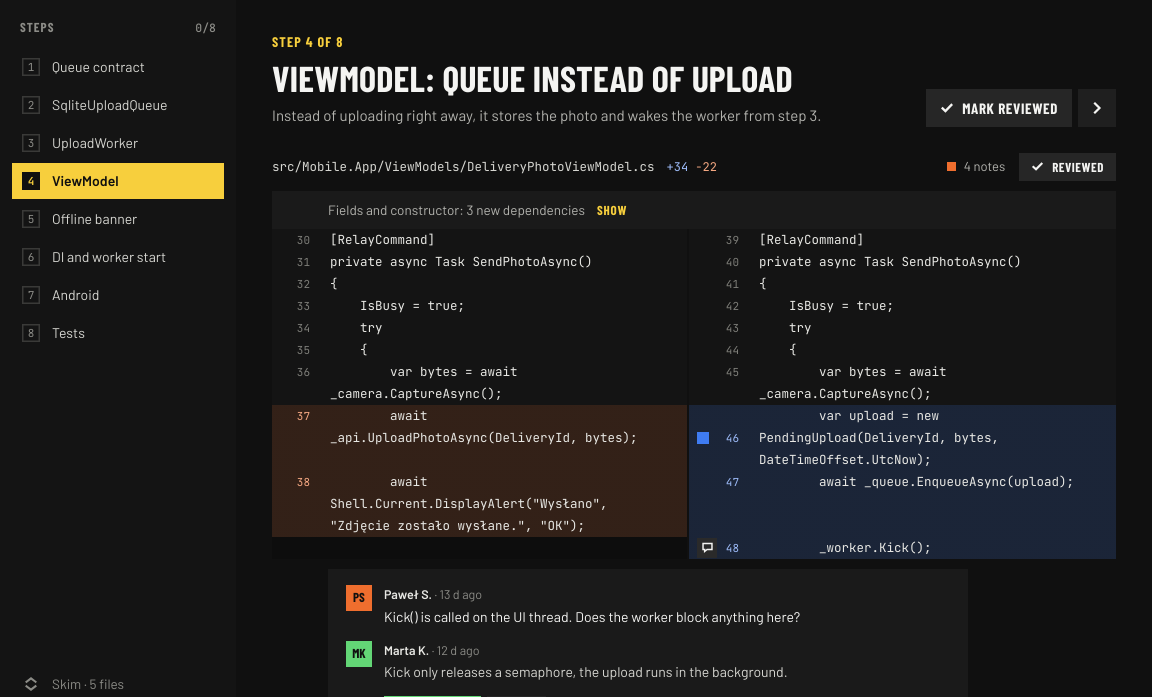
Test: S-03 layout A › F-07.4 a mechanical region is a fold row until Show
Expected: the text "Fields and constructor: 3 new dependencies" is shown, [328,200,585,220]
Expected: the text "private readonly IUploadQueue _queue;" is not shown
Click the button "Show" at (612, 210), box [597,202,627,218]
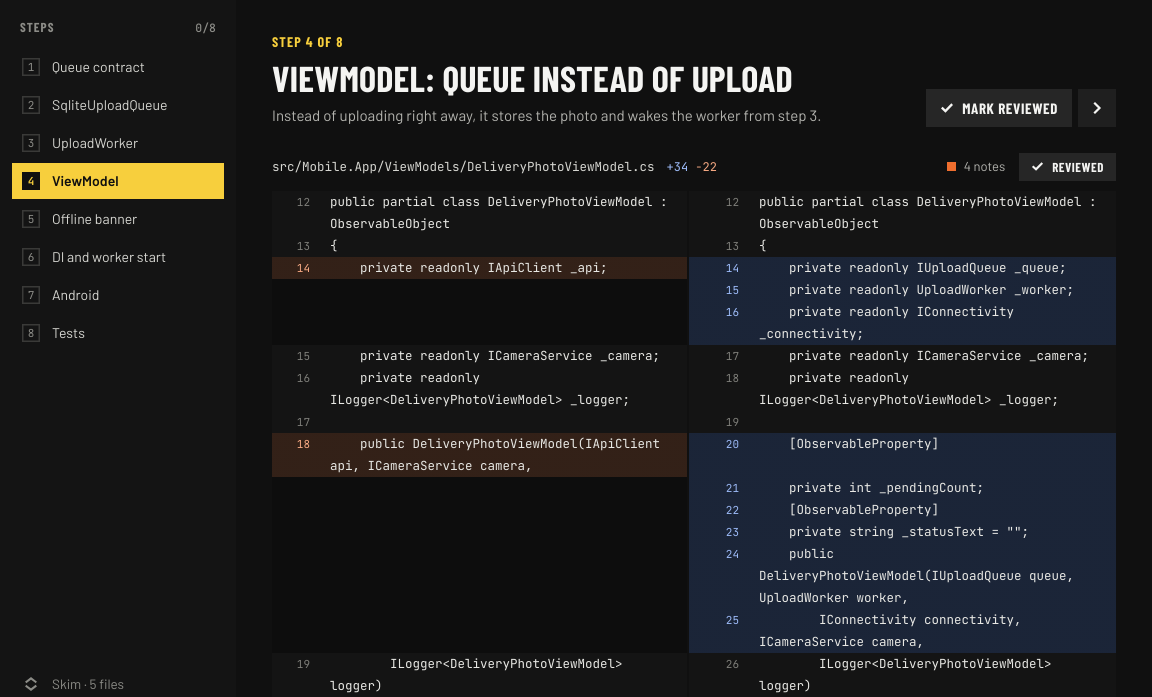
Now the text "Fields and constructor: 3 new dependencies" is gone
Now the text "private readonly IUploadQueue _queue;" is shown, box [759,259,1066,276]
